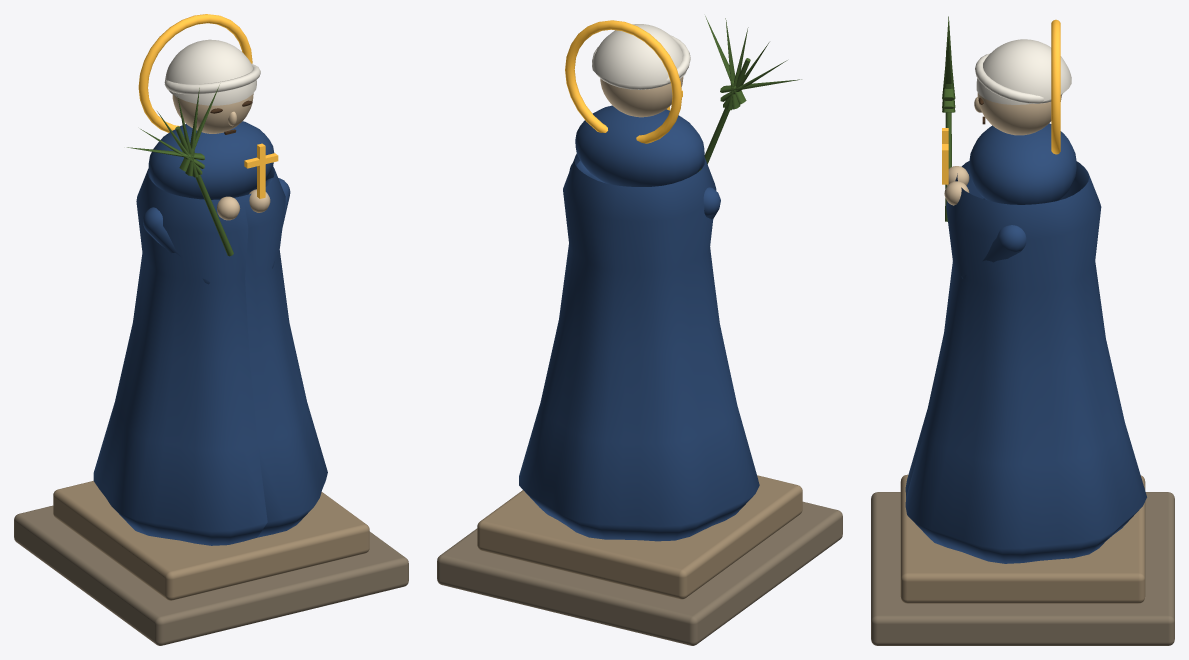
The model's file is statue-ane.glb.
3 renders of one model, left to right at view 1: azimuth 30°, elevation 25°; view 2: azimuth 150°, elevation 25°; view 3: azimuth 270°, elevation 25°, orthographic. The views are drawn at different scales.
Visible parts, largest first — view 1: Robe, PlinthLow, PlinthTop, Shoulders, Scarf, object 24, Head, HeadG, ArmL, Palm, Cross; view 2: Robe, PlinthLow, PlinthTop, Shoulders, Scarf, object 24, Head, HeadG; view 3: Robe, PlinthLow, PlinthTop, Shoulders, Scarf, Head, object 24, ArmR, HeadG.
Boxes of the visible parts, bbox=[...] form: Robe: bbox=[93, 166, 327, 545]; PlinthLow: bbox=[14, 505, 408, 645]; PlinthTop: bbox=[53, 481, 369, 600]; Shoulders: bbox=[148, 121, 274, 199]; Scarf: bbox=[164, 39, 256, 105]; object 24: bbox=[138, 14, 252, 132]; Head: bbox=[172, 93, 253, 133]; HeadG: bbox=[164, 63, 260, 94]; ArmL: bbox=[143, 207, 209, 284]; Palm: bbox=[175, 126, 233, 256]; Cross: bbox=[244, 143, 278, 198]; Robe: bbox=[519, 154, 759, 541]; PlinthLow: bbox=[437, 501, 842, 645]; PlinthTop: bbox=[477, 475, 802, 599]; Shoulders: bbox=[575, 105, 704, 186]; Scarf: bbox=[592, 24, 686, 85]; object 24: bbox=[565, 20, 682, 143]; Head: bbox=[600, 76, 683, 117]; HeadG: bbox=[592, 35, 690, 89]; Robe: bbox=[905, 161, 1146, 563]; PlinthLow: bbox=[871, 492, 1174, 645]; PlinthTop: bbox=[900, 474, 1145, 603]; Shoulders: bbox=[969, 123, 1076, 204]; Scarf: bbox=[976, 39, 1071, 104]; Head: bbox=[977, 92, 1061, 135]; object 24: bbox=[1051, 19, 1060, 154]; ArmR: bbox=[961, 225, 1026, 278]; HeadG: bbox=[975, 53, 1062, 103].
Bounding box in the file's own units: 0.92 × 1.86 × 0.92.
